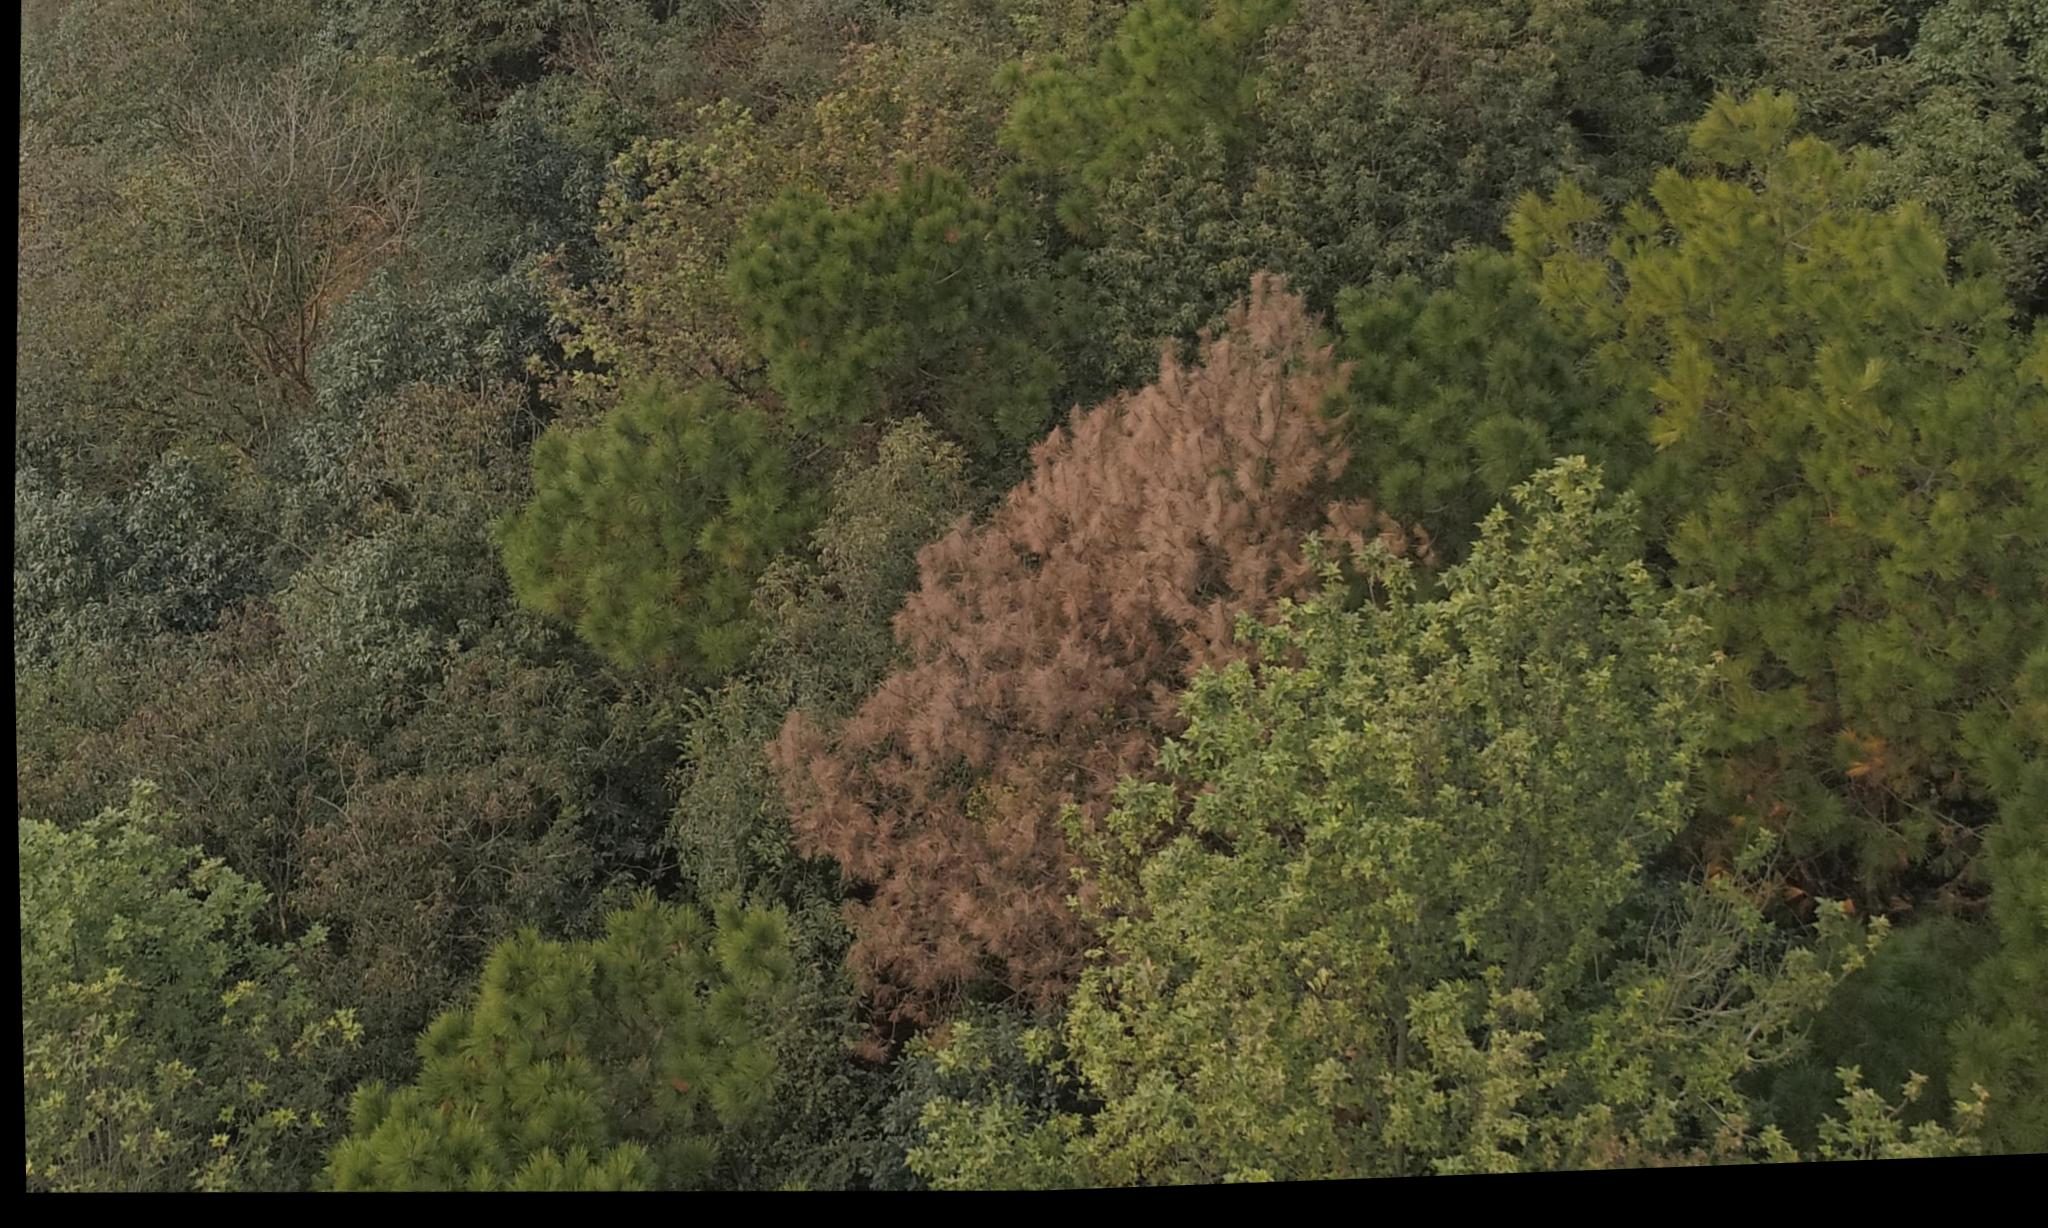heavy: (770, 246, 1408, 1067)
